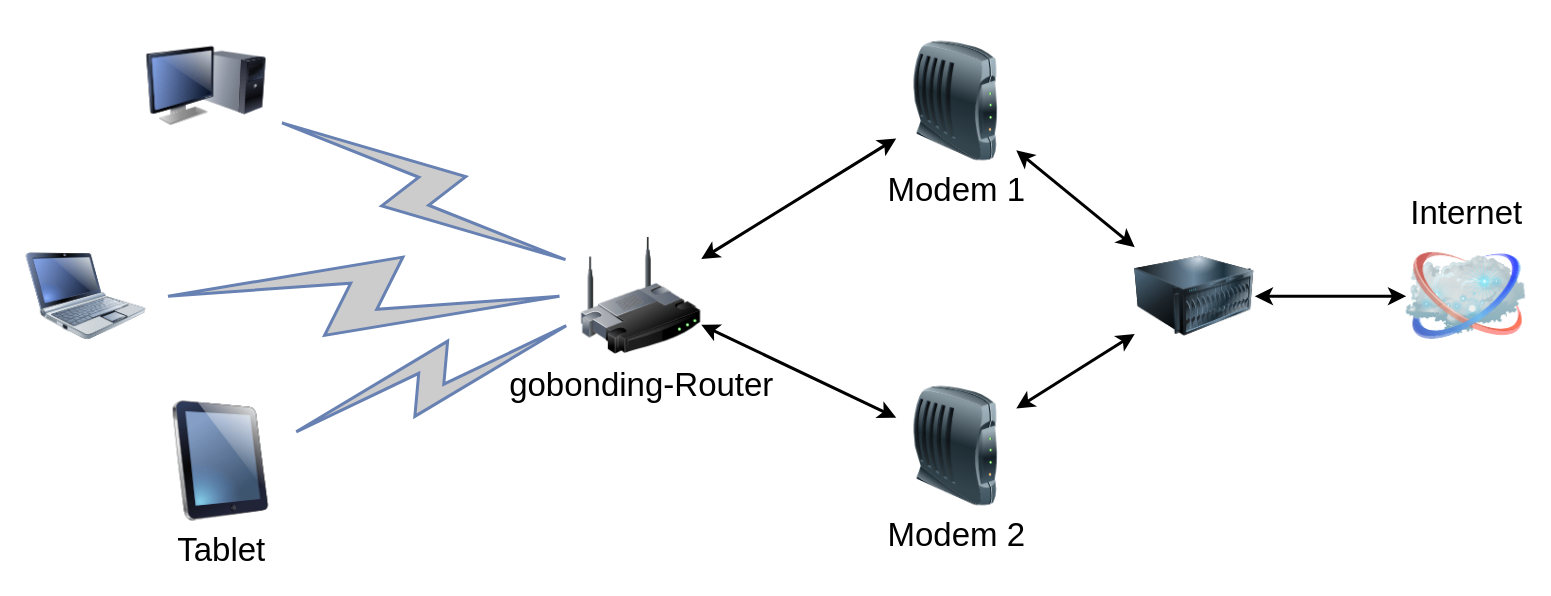
The diagram is 1551 pixels wide and 596 high, and some of its shapes have lost their labels. Here are the shapes that lost their labels. From the top down, the box of each, then its label:
(146, 26, 266, 146): PC
(26, 236, 146, 356): Laptop
(1134, 236, 1254, 356): gobonding-Proxy VPS
